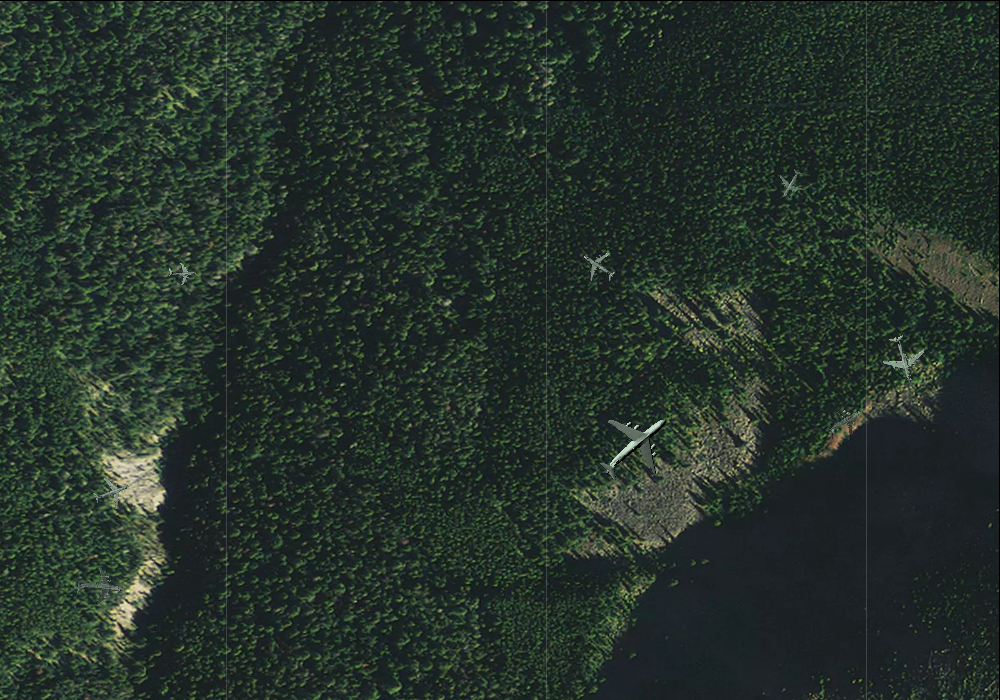plane: (580, 391, 690, 501), (875, 329, 931, 388), (819, 396, 872, 448), (73, 563, 126, 613), (573, 241, 623, 290), (88, 469, 134, 515), (771, 163, 811, 203), (167, 258, 197, 286)
